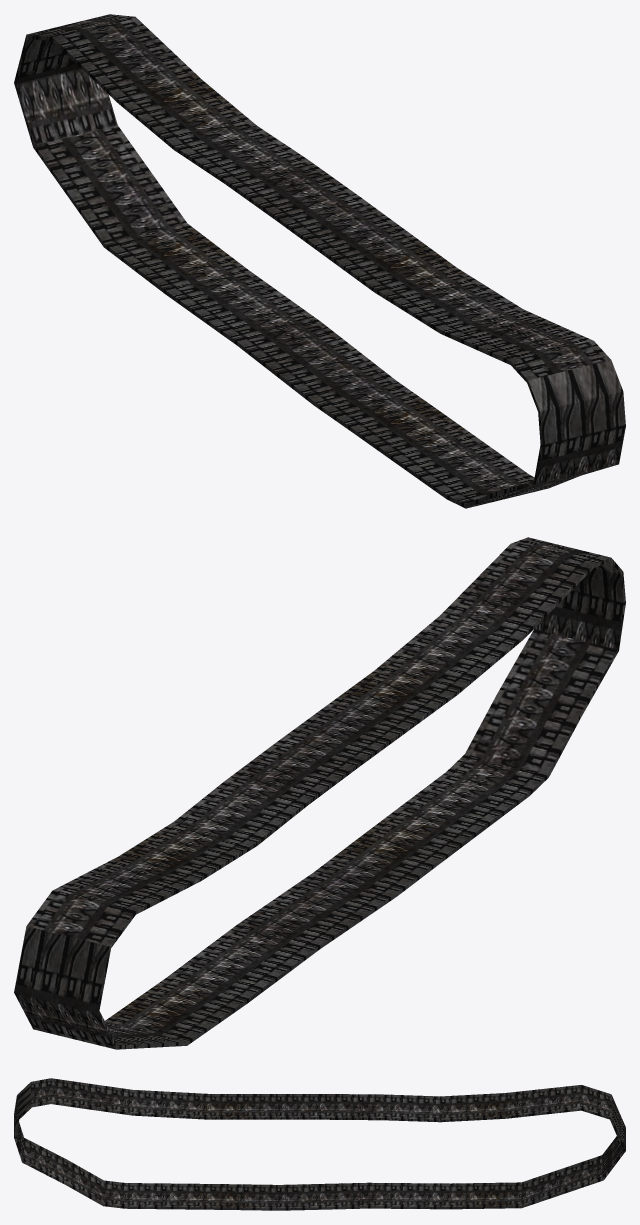
Rendered from ПраваяГусеница.FBX.
3 renders of one model, top to bottom at view 1: azimuth 30°, elevation 25°; view 2: azimuth 150°, elevation 25°; view 3: azimuth 270°, elevation 25°, orthographic. The views are drawn at different scales.
Parts seen in each view (by area): view 1: ПраваяГусеница; view 2: ПраваяГусеница; view 3: ПраваяГусеница.
Boxes of the visible parts, x1=… form: ПраваяГусеница: x1=14, y1=14, x2=625, y2=508; ПраваяГусеница: x1=14, y1=537, x2=625, y2=1049; ПраваяГусеница: x1=14, y1=1078, x2=625, y2=1210.
Bounding box in the file's own units: 0.8146 × 1.76 × 8.96.
